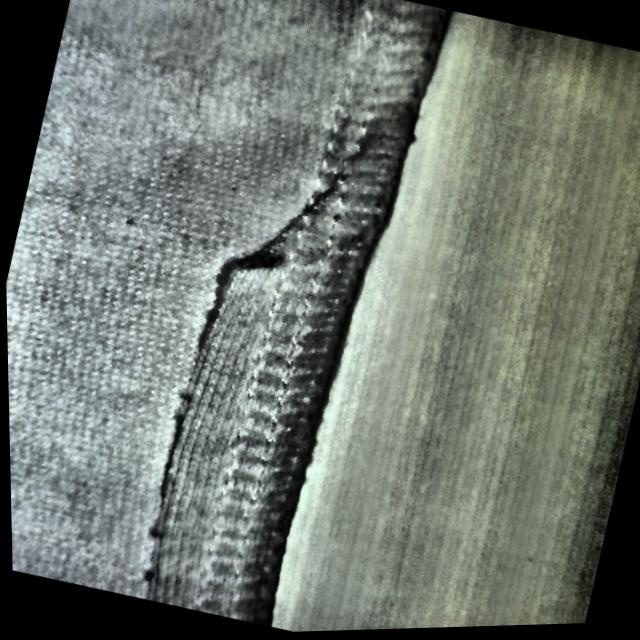seam: (77, 186, 389, 636)
